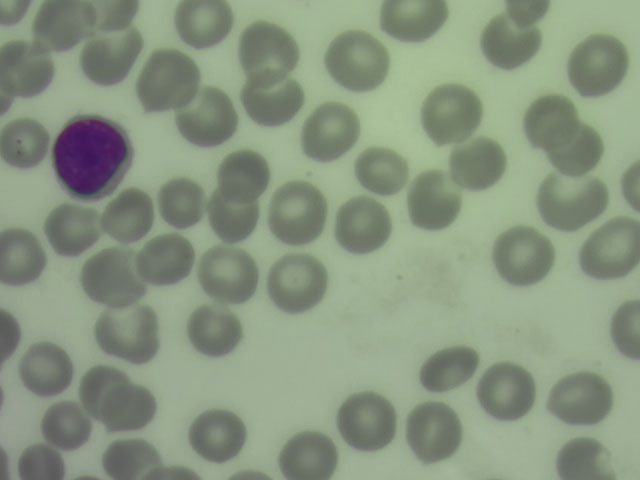RBC: (376, 1, 453, 43), (330, 33, 383, 89), (356, 145, 408, 197), (453, 137, 505, 189), (425, 86, 477, 138), (487, 15, 539, 67), (245, 71, 297, 123), (554, 372, 606, 424), (483, 363, 535, 415), (424, 341, 476, 393), (410, 406, 462, 458), (342, 398, 394, 450), (283, 428, 335, 480), (193, 408, 245, 460), (272, 185, 324, 237), (272, 254, 324, 306), (200, 246, 252, 298), (190, 306, 242, 358), (99, 305, 151, 357), (39, 399, 91, 451), (104, 382, 156, 434), (77, 364, 129, 416), (22, 342, 74, 394), (138, 234, 190, 286), (85, 251, 137, 303), (207, 189, 259, 241), (218, 144, 270, 196), (156, 176, 208, 228), (102, 187, 154, 239), (45, 200, 97, 252), (242, 22, 294, 74), (184, 90, 236, 142), (139, 49, 191, 101), (84, 30, 136, 82), (335, 207, 387, 259), (300, 104, 352, 156), (585, 222, 637, 274), (497, 230, 549, 282), (545, 173, 597, 225), (548, 121, 600, 173), (524, 96, 576, 148), (571, 40, 623, 92), (408, 174, 460, 226), (1, 229, 52, 281), (177, 1, 229, 52), (1, 116, 52, 168), (1, 41, 52, 93), (33, 1, 85, 52), (556, 436, 617, 479), (105, 438, 161, 479), (15, 440, 63, 479), (611, 297, 640, 358), (83, 1, 137, 28), (1, 311, 24, 358)
WBC: (51, 115, 132, 199)
